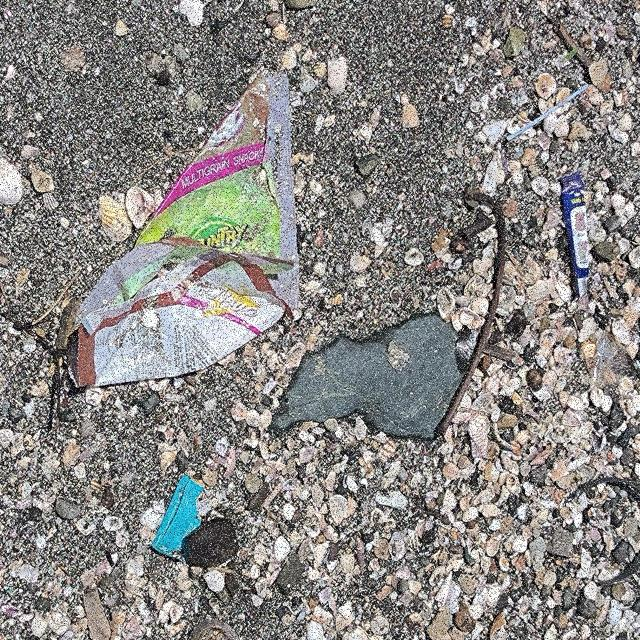plastic_waste: (66, 74, 301, 389), (507, 81, 591, 143), (153, 475, 208, 566), (560, 173, 591, 300)
